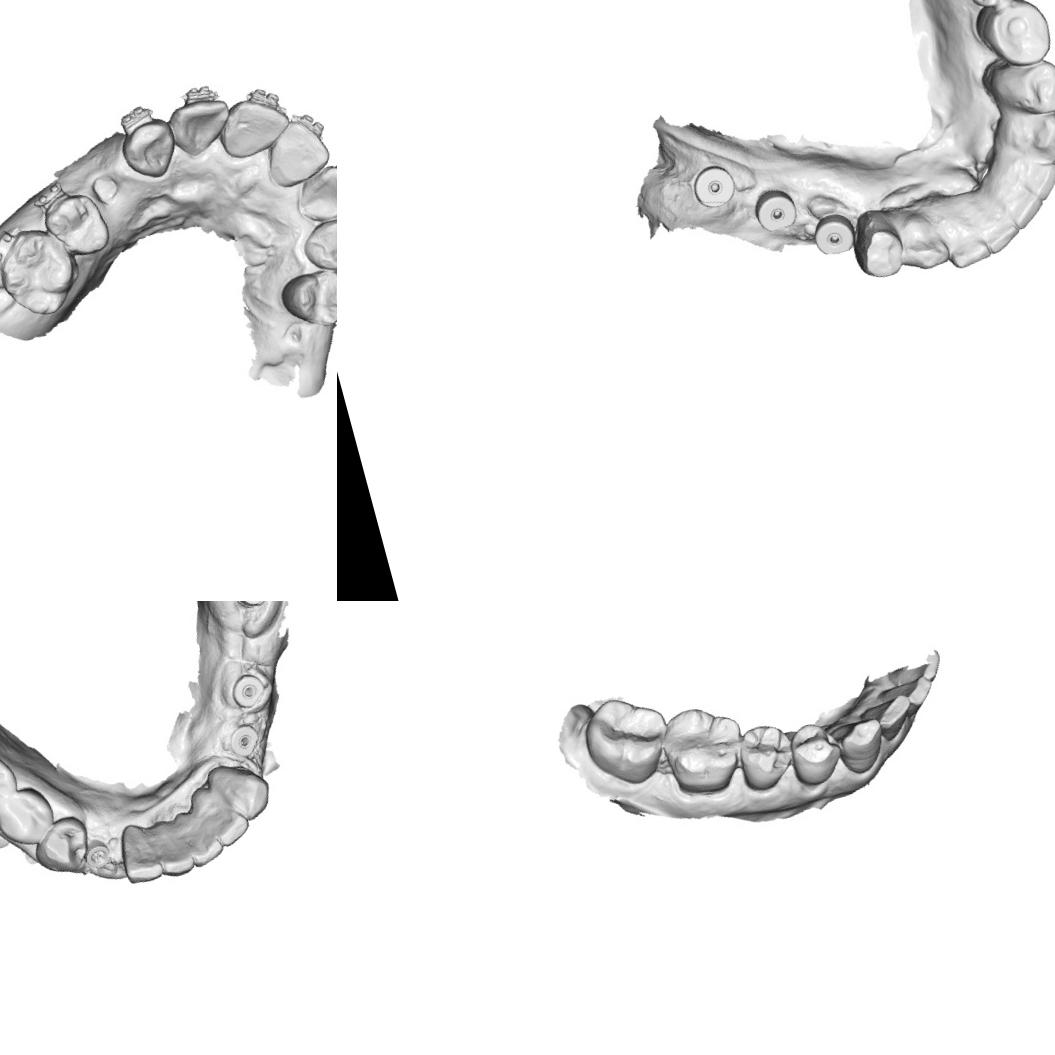canine: (200, 752, 276, 830), (116, 116, 180, 186), (891, 200, 949, 277), (828, 712, 892, 779), (1010, 103, 1055, 166), (298, 213, 337, 278)
implant: (688, 161, 738, 213), (750, 186, 795, 234), (810, 212, 856, 257), (226, 668, 271, 714), (225, 718, 266, 759), (78, 835, 116, 877), (226, 601, 275, 612)
incisor: (254, 112, 335, 192), (212, 89, 293, 164), (164, 92, 235, 159), (144, 809, 200, 880), (110, 818, 166, 888), (858, 690, 922, 748), (286, 158, 337, 229), (196, 797, 254, 852), (179, 807, 226, 868), (998, 180, 1048, 234), (872, 672, 937, 713), (943, 226, 991, 272), (977, 206, 1022, 254), (1018, 155, 1055, 204)
molar: (572, 685, 681, 796), (655, 695, 756, 803), (0, 222, 85, 325), (0, 736, 24, 826)
premolar: (39, 186, 113, 266), (730, 716, 804, 796), (976, 0, 1055, 74), (26, 810, 100, 884), (986, 46, 1055, 124), (780, 716, 849, 792), (848, 208, 910, 286), (274, 261, 337, 336), (0, 781, 60, 854)
